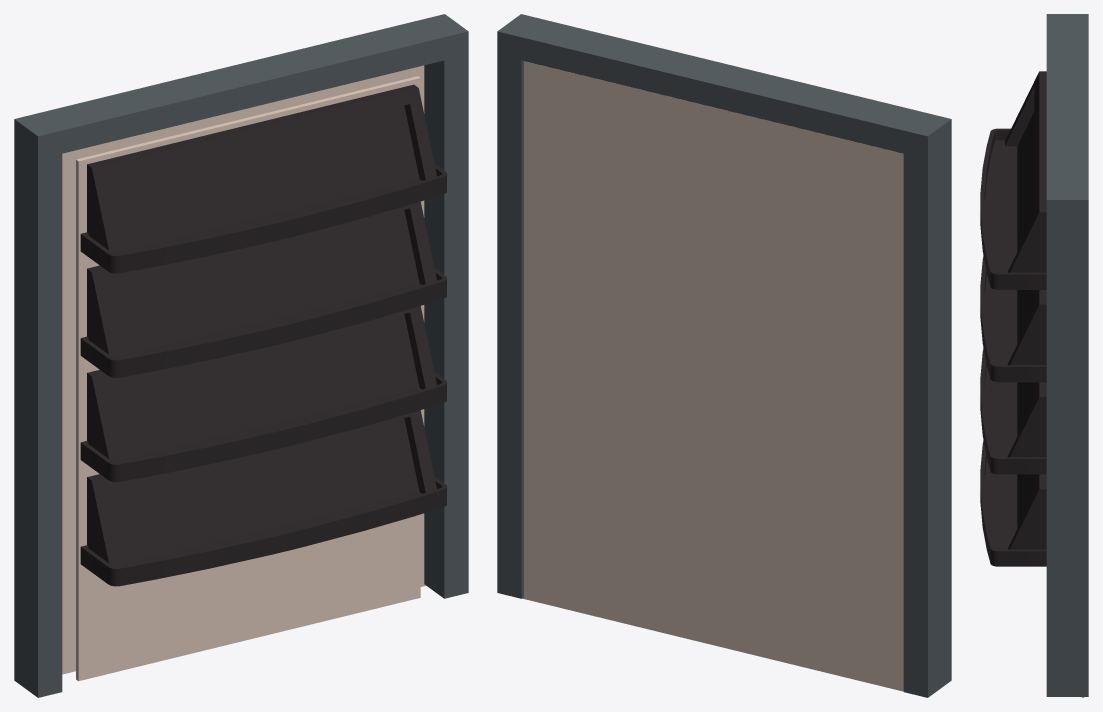
File: SM_shelf_stacked.fbx
The picture shows the model from 3 angles, left to right: view 1: azimuth 30°, elevation 25°; view 2: azimuth 150°, elevation 25°; view 3: azimuth 270°, elevation 25°; orthographic projection. The views are drawn at different scales.
Visible parts, largest first — view 1: shelf_stacked; view 2: shelf_stacked; view 3: shelf_stacked.
Boxes of the visible parts, x1,y1,x2,y2 form: shelf_stacked: (14, 14, 468, 697); shelf_stacked: (497, 14, 951, 697); shelf_stacked: (980, 14, 1088, 697).
Bounding box in the file's own units: 184 × 230 × 45.31.
